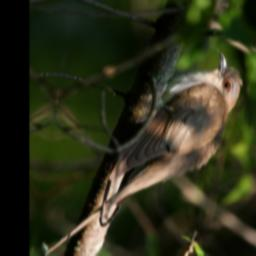Cuckoo: (42, 34, 249, 256)
